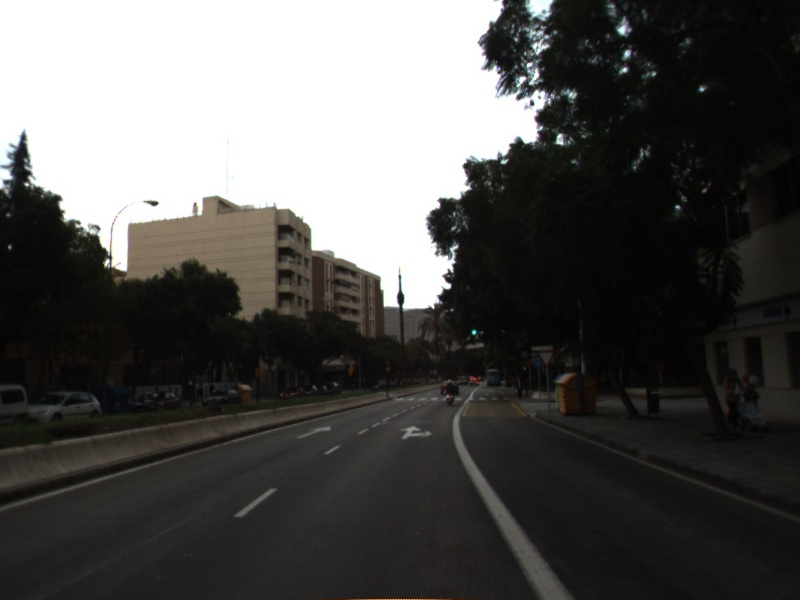STRAIGHT: (294, 424, 333, 441)
STRAIGHT_RIGHT: (397, 423, 435, 441)
